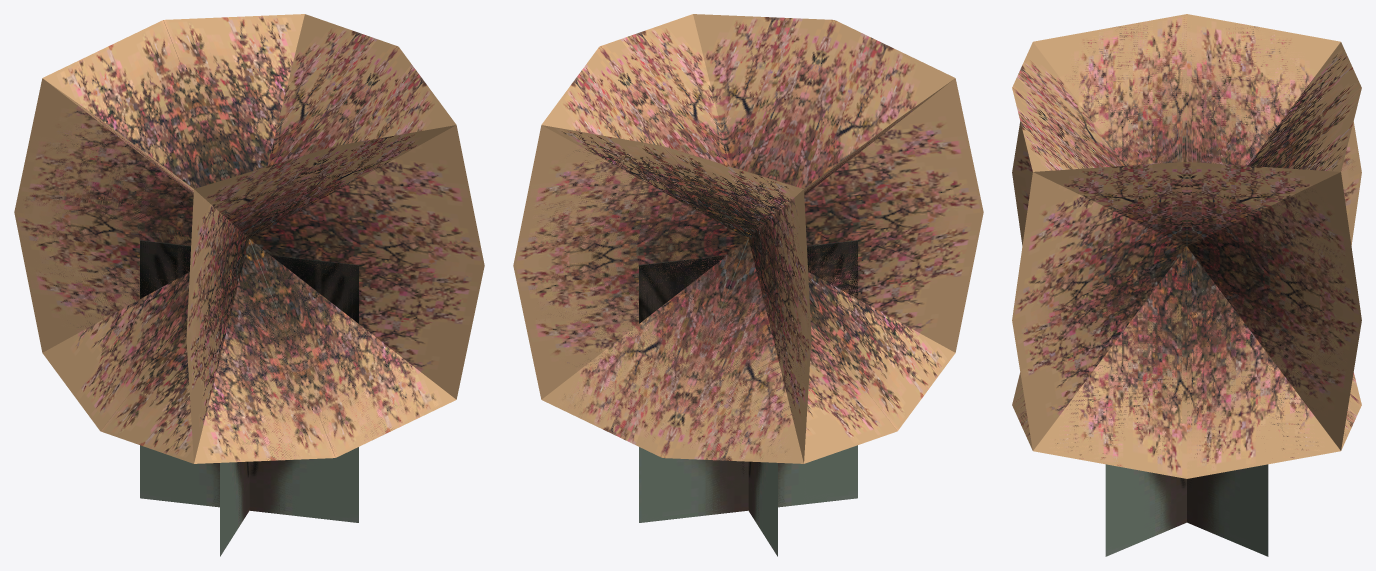
File: decd_lok_mkpud_gray_l0.fbx
3 views of the same model, side by side, from view 1: azimuth 30°, elevation 25°; view 2: azimuth 150°, elevation 25°; view 3: azimuth 270°, elevation 25° (orthographic).
Parts seen in each view (by area): view 1: mesh_node; view 2: mesh_node; view 3: mesh_node.
Part boxes in pixels (x1=…): mesh_node: x1=14, y1=14, x2=484, y2=556; mesh_node: x1=513, y1=14, x2=983, y2=556; mesh_node: x1=1012, y1=14, x2=1361, y2=556.
Size of the model in its own units: 1.84 by 2.52 by 1.84.
